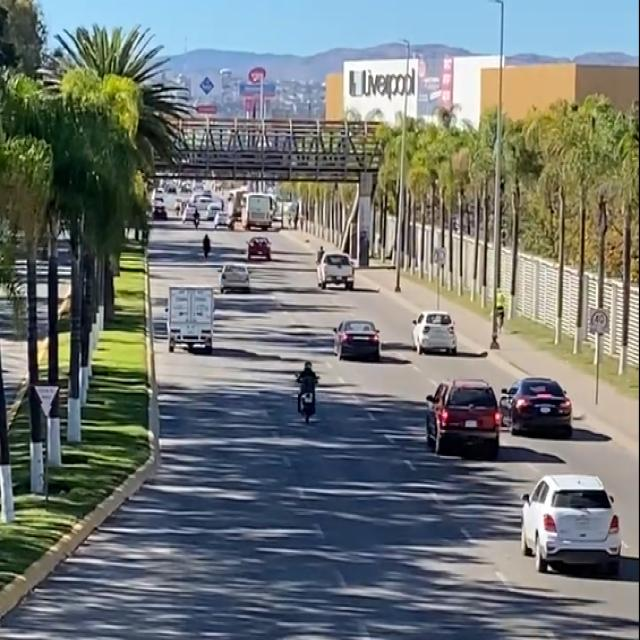Auto: (522, 472, 624, 574), (424, 379, 502, 454), (502, 376, 572, 436), (166, 287, 214, 351), (412, 311, 459, 355), (336, 323, 380, 360), (316, 252, 356, 290), (218, 264, 251, 293), (248, 237, 272, 262)
Autobus: (242, 193, 274, 230)
